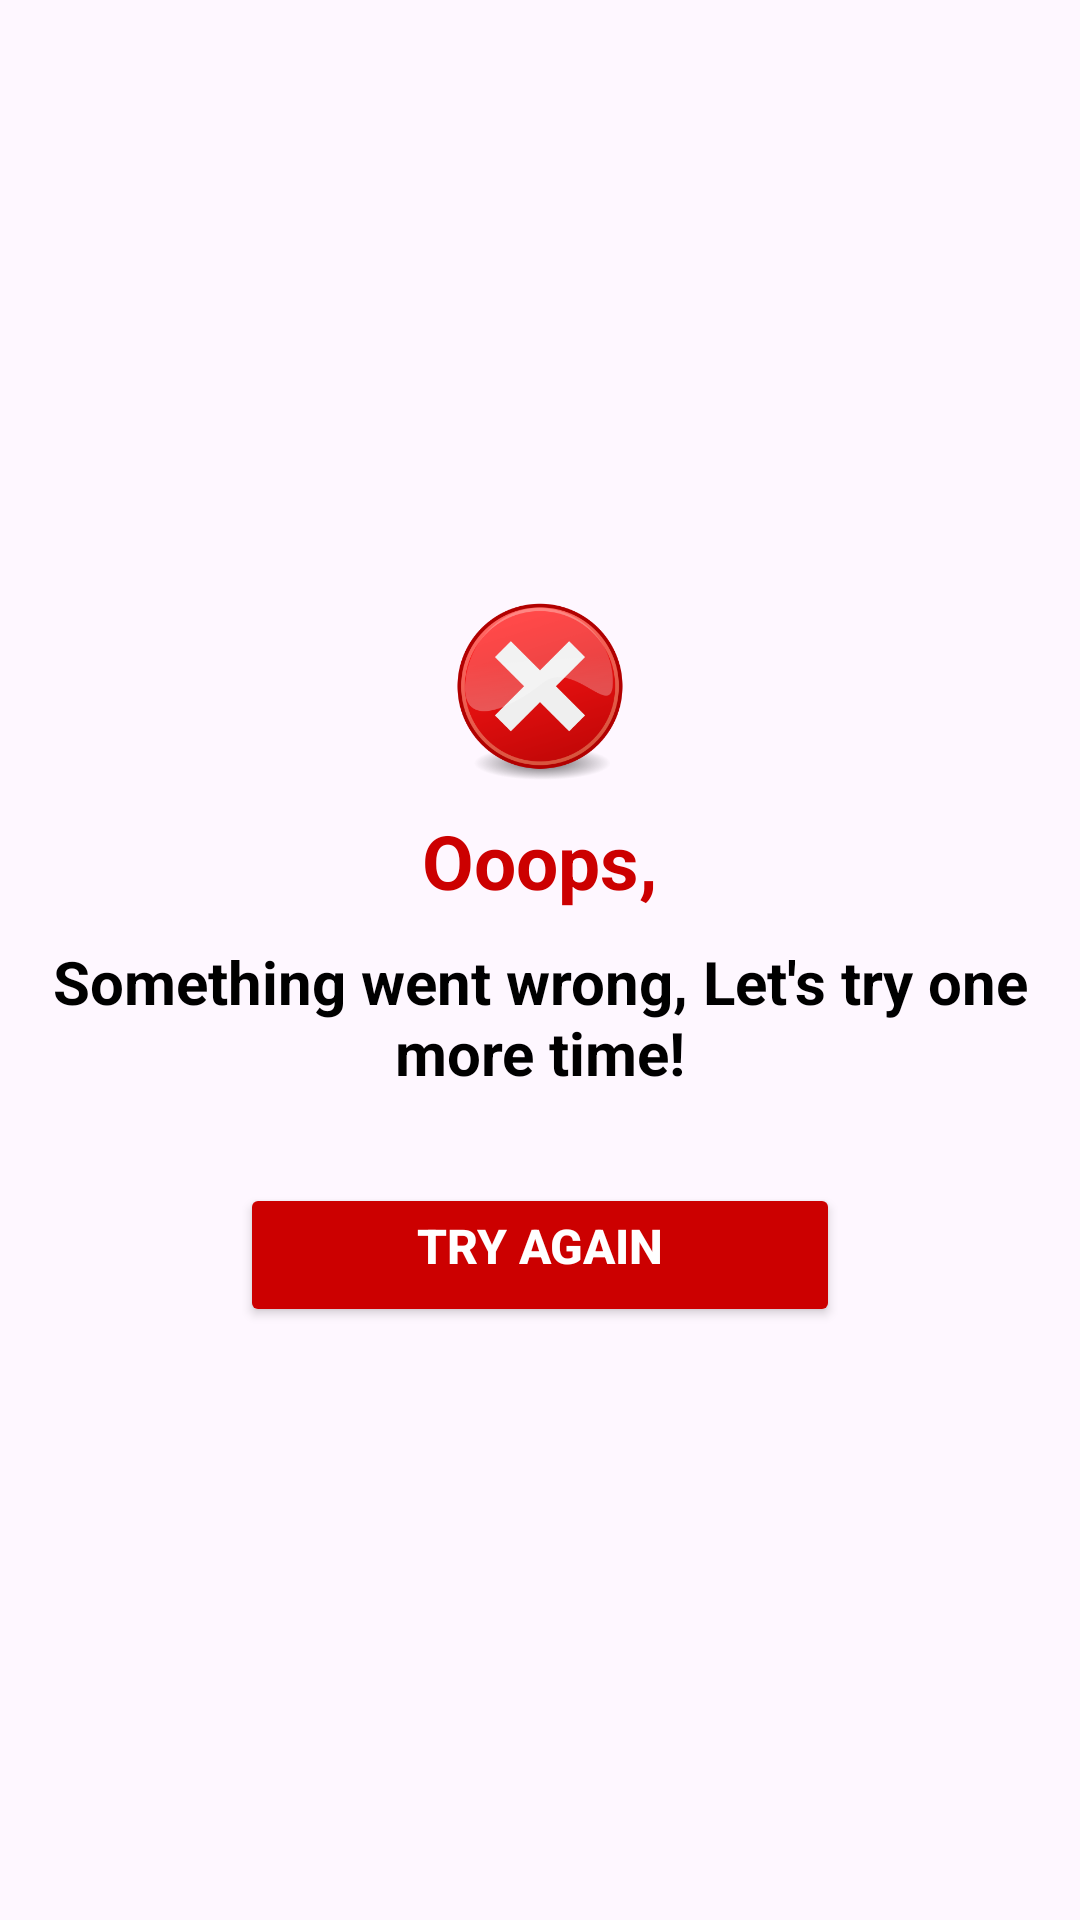

Icon bounding boxes for this 1080x1920 phone screenshot, format bbox=(x1, y1, x2, y2):
Something went wrong, Let's try one more time!: bbox=(457, 603, 623, 777)
